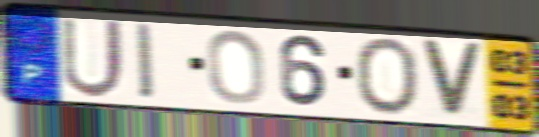6: (277, 33, 331, 110)
I: (133, 20, 158, 103)
O: (352, 35, 421, 118), (204, 27, 267, 106)
U: (58, 14, 127, 100)
V: (417, 37, 486, 122)
